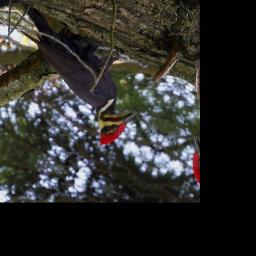Woodpecker: (0, 0, 160, 157)
